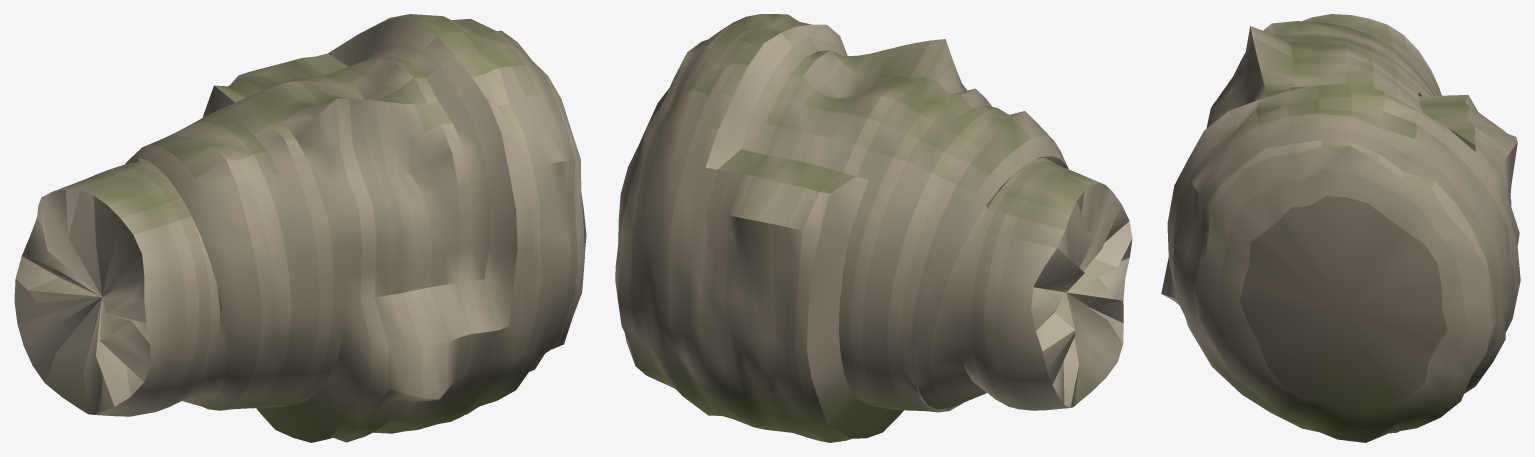
The model's file is harbour_colossus_head_mid.glb.
3 renders of one model, left to right at view 1: azimuth 30°, elevation 25°; view 2: azimuth 150°, elevation 25°; view 3: azimuth 270°, elevation 25°, orthographic. The views are drawn at different scales.
Parts seen in each view (by area): view 1: harbour_colossus_head_mid; view 2: harbour_colossus_head_mid; view 3: harbour_colossus_head_mid.
Boxes of the visible parts, x1,y1,x2,y2 form: harbour_colossus_head_mid: (14, 14, 586, 442); harbour_colossus_head_mid: (615, 14, 1132, 442); harbour_colossus_head_mid: (1161, 14, 1520, 442).
Bounding box in the file's own units: 29.96 × 23.42 × 21.88.
